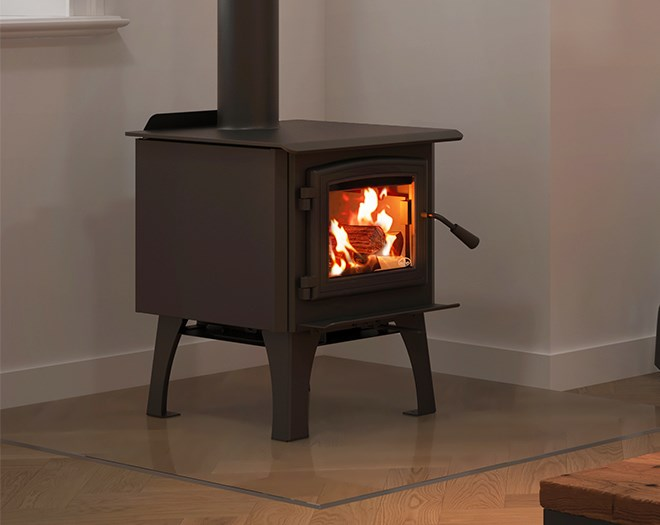stove: (121, 12, 471, 416)
